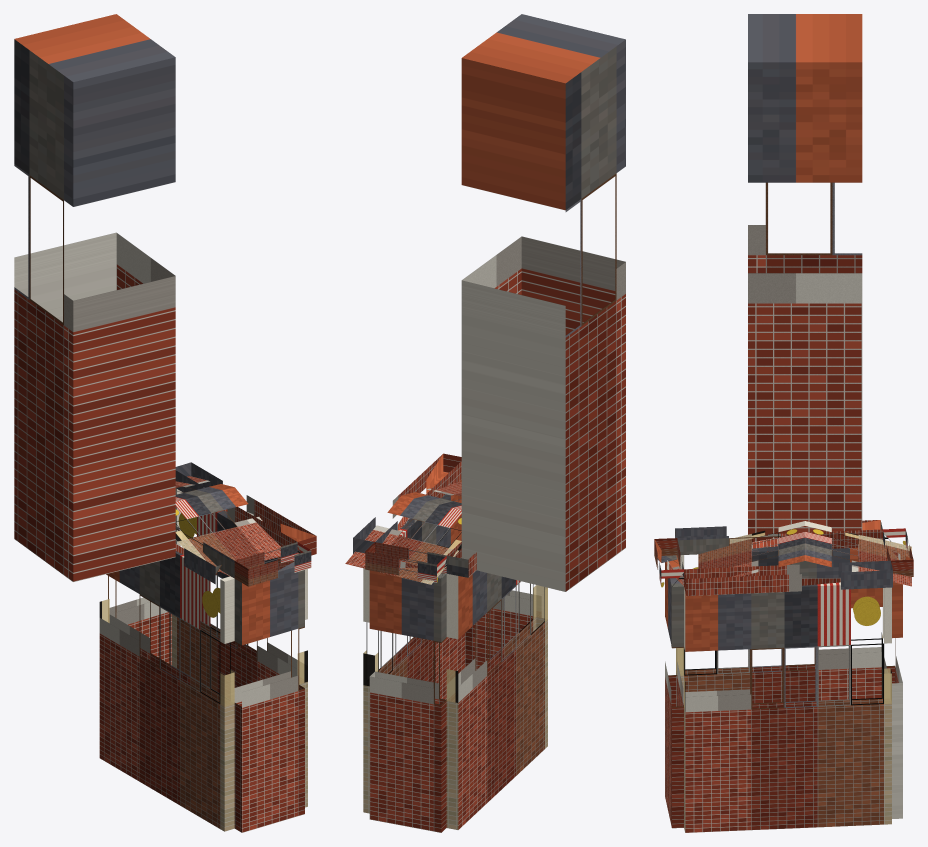
3 views of the same model, side by side, from view 1: azimuth 30°, elevation 25°; view 2: azimuth 150°, elevation 25°; view 3: azimuth 270°, elevation 25° (orthographic). The views are drawn at different scales.
Parts seen in each view (by area): view 1: 1107168847__chimney_0_xb, 1107168847__wall_2_xb, 1107168847__wall_1_xb, 1107168847__wall_0_xb, 1107168847_roof_-1_xb, 1107168847__cornice_0, 1107168847__wall_3_xb, 1107168847__cornice_1, 1107168847__cornice_2, 1107168847__wall_2_xf, 1107168847_roof_1_xb; view 2: 1107168847__chimney_0_xb, 1107168847__wall_2_xb, 1107168847__wall_3_xb, 1107168847__wall_0_xb, 1107168847_roof_1_xb, 1107168847__wall_1_xb, 1107168847__cornice_0, 1107168847__cornice_3, 1107168847__wall_2_xf, 1107168847_roof_-1_xb, 1107168847__cornice_2; view 3: 1107168847__chimney_0_xb, 1107168847__wall_0_xb, 1107168847__wall_2_xb, 1107168847__cornice_0, 1107168847__wall_1_xb, 1107168847_roof_-1_xb, 1107168847__cornice_2, 1107168847_roof_1_xb, 1107168847__wall_3_xb, 1107168847__cornice_1, 1107168847__cornice_3.
Boxes of the visible parts, x1=… form: 1107168847__chimney_0_xb: x1=14, y1=14, x2=175, y2=581; 1107168847__wall_2_xb: x1=99, y1=551, x2=234, y2=831; 1107168847__wall_1_xb: x1=234, y1=562, x2=304, y2=832; 1107168847__wall_0_xb: x1=172, y1=488, x2=307, y2=807; 1107168847_roof_-1_xb: x1=175, y1=487, x2=280, y2=571; 1107168847__cornice_0: x1=175, y1=462, x2=316, y2=555; 1107168847__wall_3_xb: x1=108, y1=576, x2=171, y2=665; 1107168847__cornice_1: x1=234, y1=542, x2=311, y2=586; 1107168847__cornice_2: x1=175, y1=526, x2=234, y2=584; 1107168847__wall_2_xf: x1=100, y1=599, x2=234, y2=706; 1107168847_roof_1_xb: x1=175, y1=476, x2=234, y2=501; 1107168847__chimney_0_xb: x1=461, y1=14, x2=625, y2=591; 1107168847__wall_2_xb: x1=446, y1=570, x2=547, y2=829; 1107168847__wall_3_xb: x1=369, y1=570, x2=446, y2=832; 1107168847__wall_0_xb: x1=363, y1=479, x2=465, y2=813; 1107168847_roof_1_xb: x1=345, y1=495, x2=461, y2=584; 1107168847__wall_1_xb: x1=465, y1=590, x2=540, y2=670; 1107168847__cornice_0: x1=353, y1=453, x2=461, y2=553; 1107168847__cornice_3: x1=365, y1=542, x2=446, y2=582; 1107168847__wall_2_xf: x1=447, y1=585, x2=547, y2=702; 1107168847_roof_-1_xb: x1=402, y1=482, x2=461, y2=509; 1107168847__cornice_2: x1=446, y1=542, x2=476, y2=577; 1107168847__chimney_0_xb: x1=748, y1=14, x2=862, y2=541; 1107168847__wall_0_xb: x1=684, y1=582, x2=891, y2=832; 1107168847__wall_2_xb: x1=676, y1=546, x2=882, y2=704; 1107168847__cornice_0: x1=684, y1=560, x2=892, y2=596; 1107168847__wall_1_xb: x1=665, y1=555, x2=683, y2=828; 1107168847_roof_-1_xb: x1=698, y1=521, x2=804, y2=576; 1107168847__cornice_2: x1=675, y1=520, x2=882, y2=555; 1107168847_roof_1_xb: x1=805, y1=521, x2=911, y2=586; 1107168847__wall_3_xb: x1=884, y1=582, x2=902, y2=818; 1107168847__cornice_1: x1=654, y1=538, x2=683, y2=587; 1107168847__cornice_3: x1=883, y1=528, x2=913, y2=576.
Bounding box in the file's own units: 0.3099 × 1.05 × 0.3405.
1 material, 1 textured.
